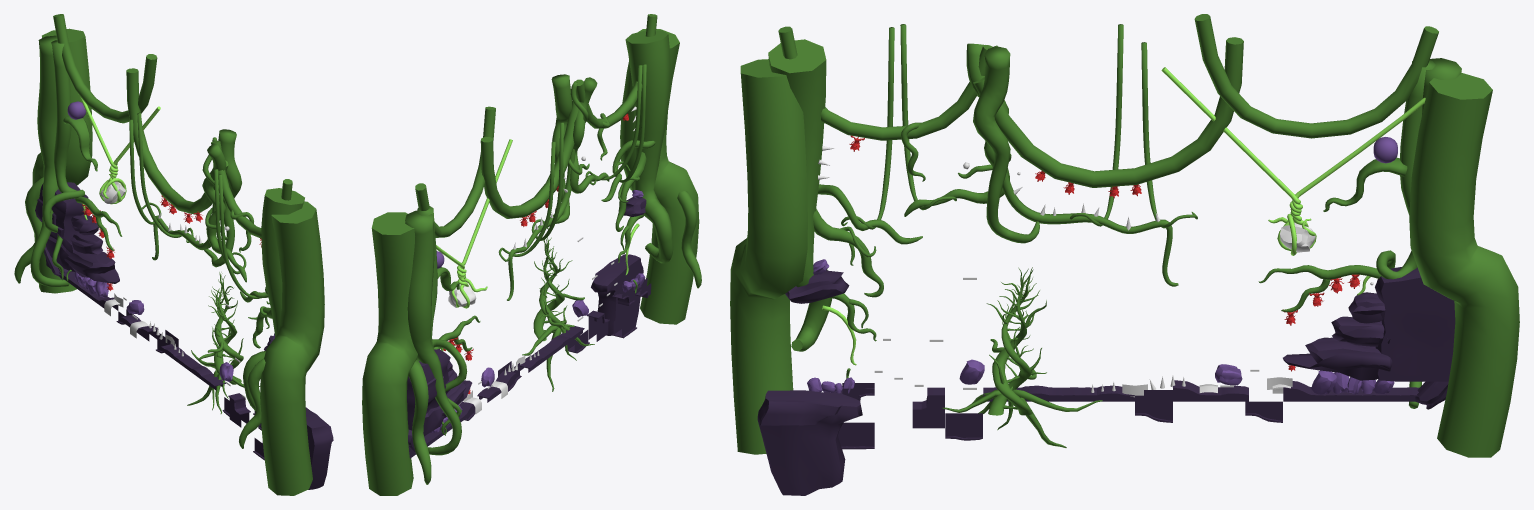
Rendered from forest 1.FBX.
3 views of the same model, side by side, from view 1: azimuth 30°, elevation 25°; view 2: azimuth 150°, elevation 25°; view 3: azimuth 270°, elevation 25° (orthographic). The views are drawn at different scales.
Parts seen in each view (by area): view 1: tt_forest_root14, tt_forest_root13, tt_forest_root07, tt_forest_root15, tt_forest_root023, helix, tt_forest_left_cliff, tt_forest_right_cliff, tt_forest_rock02, tt_forest_root015, tt_forest_roottie, tt_forest_root19_copy (+10 smaller); view 2: tt_forest_root13, tt_forest_root14, tt_forest_root07, tt_forest_root023, tt_forest_right_cliff, helix, tt_forest_root15, tt_forest_left_cliff, tt_forest_root015, tt_forest_roottie, tt_forest_root02, tt_forest_root17_copy (+10 smaller); view 3: tt_forest_root13, tt_forest_root14, tt_forest_right_cliff, tt_forest_left_cliff, tt_forest_root023, tt_forest_root07, tt_forest_root15, helix, tt_forest_root015, tt_forest_rock02, tt_forest_roottie, tt_forest_root02 (+15 smaller).
Boxes of the visible parts, x1,y1,x2,y2 form: tt_forest_root14: (239, 188, 324, 495); tt_forest_root13: (14, 28, 92, 293); tt_forest_root07: (202, 129, 246, 282); tt_forest_root15: (53, 14, 157, 123); tt_forest_root023: (126, 68, 228, 214); helix: (187, 272, 260, 413); tt_forest_left_cliff: (35, 182, 88, 271); tt_forest_right_cliff: (305, 407, 333, 489); tt_forest_rock02: (64, 251, 119, 283); tt_forest_root015: (211, 141, 292, 238); tt_forest_roottie: (79, 95, 160, 204); tt_forest_root19_copy: (137, 112, 193, 242); tt_forest_root13: (362, 206, 467, 495); tt_forest_root14: (620, 29, 701, 324); tt_forest_root07: (551, 74, 609, 223); tt_forest_root023: (480, 101, 578, 218); tt_forest_right_cliff: (591, 254, 643, 335); helix: (522, 237, 594, 391); tt_forest_root15: (415, 106, 495, 237); tt_forest_left_cliff: (407, 349, 451, 436); tt_forest_root015: (575, 14, 657, 128); tt_forest_roottie: (436, 139, 512, 308); tt_forest_root02: (507, 148, 575, 300); tt_forest_root17_copy: (498, 141, 555, 261); tt_forest_root13: (1376, 58, 1519, 457); tt_forest_root14: (730, 39, 832, 454); tt_forest_right_cliff: (757, 390, 862, 495); tt_forest_left_cliff: (1375, 267, 1455, 381); tt_forest_root023: (973, 37, 1243, 187); tt_forest_root07: (904, 43, 1039, 243); tt_forest_root15: (1194, 14, 1438, 138); helix: (942, 267, 1102, 447); tt_forest_root015: (778, 26, 992, 140); tt_forest_rock02: (1283, 337, 1392, 380); tt_forest_roottie: (1161, 67, 1425, 255); tt_forest_root02: (1002, 170, 1178, 286).
Bounding box in the file's own units: 1136 × 3995 × 6173.
